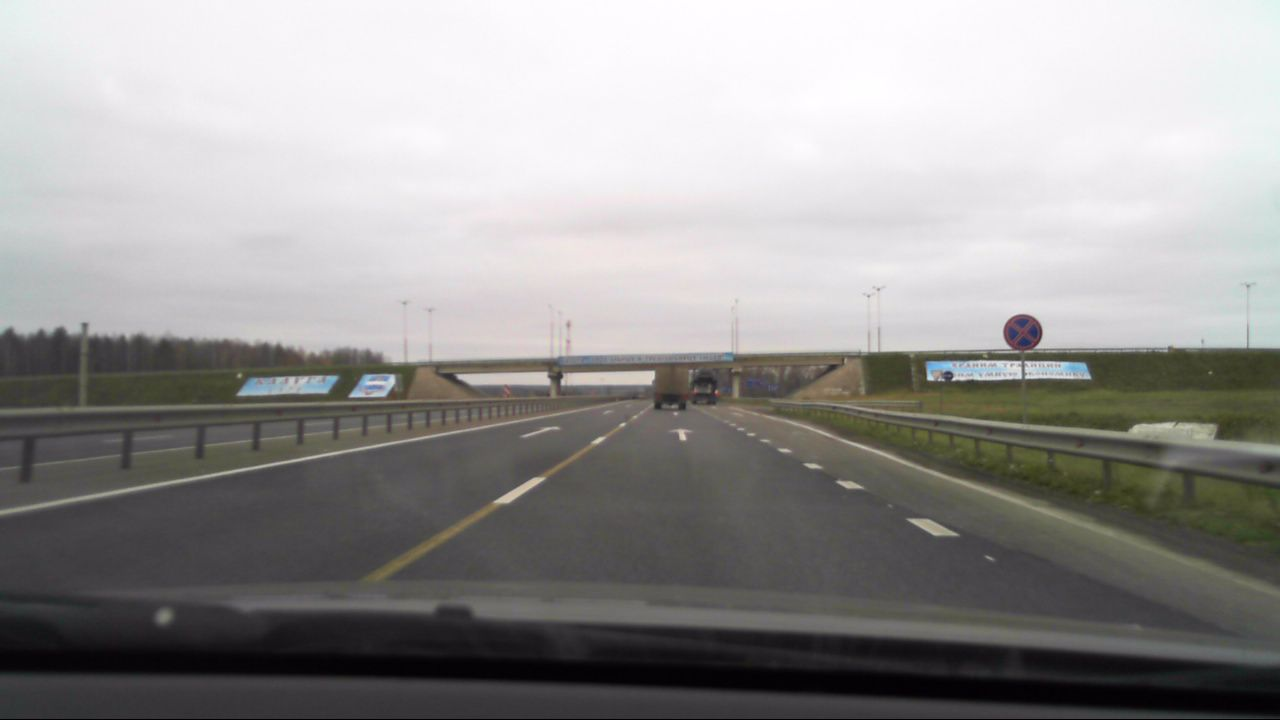No Parking: (1000, 310, 1047, 355)
